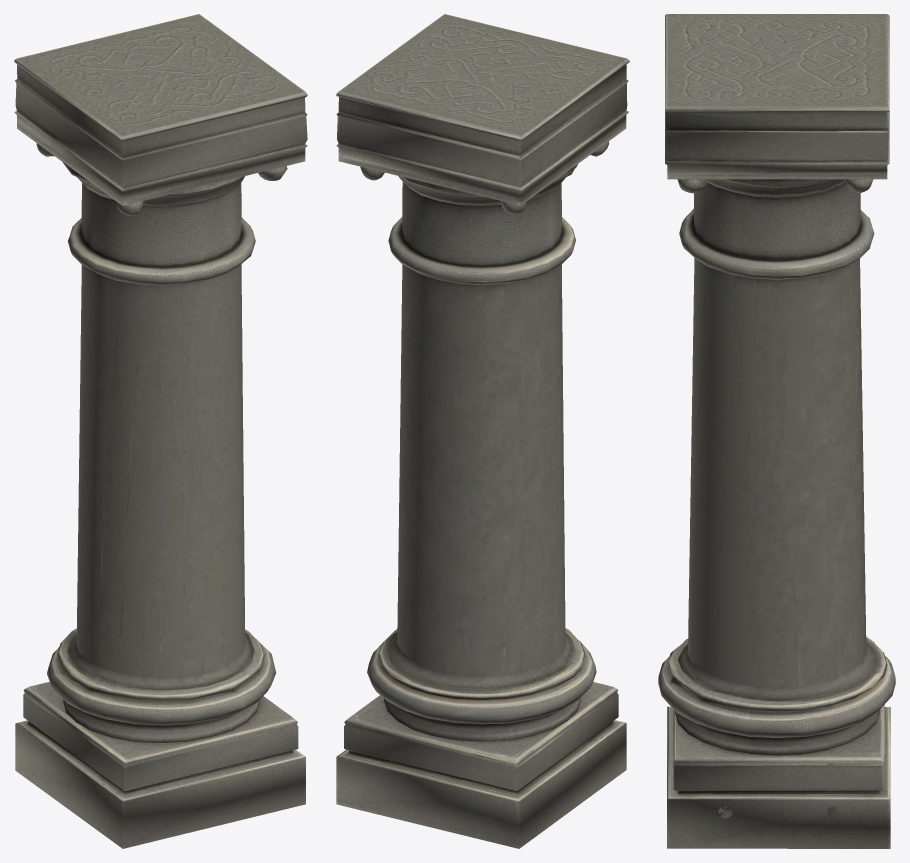
Rendered from pillarCarved.glb.
The picture shows the model from 3 angles, left to right: view 1: azimuth 30°, elevation 25°; view 2: azimuth 150°, elevation 25°; view 3: azimuth 270°, elevation 25°; orthographic projection. The views are drawn at different scales.
Bounding box in the file's own units: 0.2759 × 0.9517 × 0.2764.
1 material, 1 textured.
